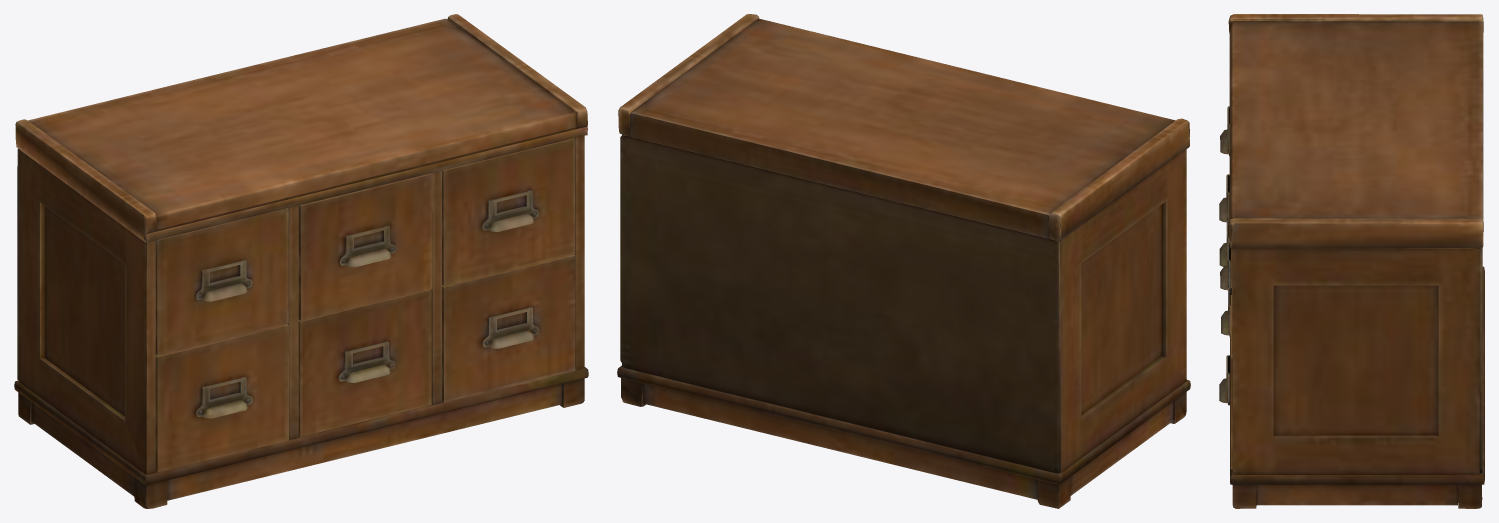
File: chest_of_drawers.glb
3 renders of one model, left to right at view 1: azimuth 30°, elevation 25°; view 2: azimuth 150°, elevation 25°; view 3: azimuth 270°, elevation 25°, orthographic. The views are drawn at different scales.
Visible parts, largest first — view 1: vintage_wooden_drawer_01_body; view 2: vintage_wooden_drawer_01_body; view 3: vintage_wooden_drawer_01_body.
Part boxes in pixels (box(x1,y1,x2,y2)): vintage_wooden_drawer_01_body: box(14, 14, 588, 508); vintage_wooden_drawer_01_body: box(617, 14, 1190, 508); vintage_wooden_drawer_01_body: box(1219, 14, 1484, 508).
Bounding box in the file's own units: 0.8558 × 0.5458 × 0.4572.
1 material, 1 textured.
